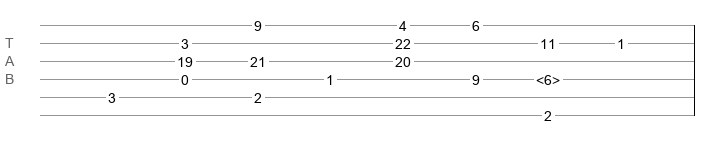0: (181, 72, 189, 82)
1: (326, 72, 334, 82), (617, 36, 625, 46)
11: (540, 36, 556, 46)
19: (177, 54, 193, 64)
2: (254, 90, 262, 100), (544, 108, 552, 118)
20: (395, 54, 411, 64)
21: (250, 54, 266, 64)
22: (395, 36, 411, 46)
3: (108, 90, 116, 100), (181, 36, 189, 46)
4: (399, 18, 407, 28)
6: (472, 18, 480, 28)
9: (254, 18, 262, 28), (472, 72, 480, 82)
harmonic: (536, 72, 560, 82)
